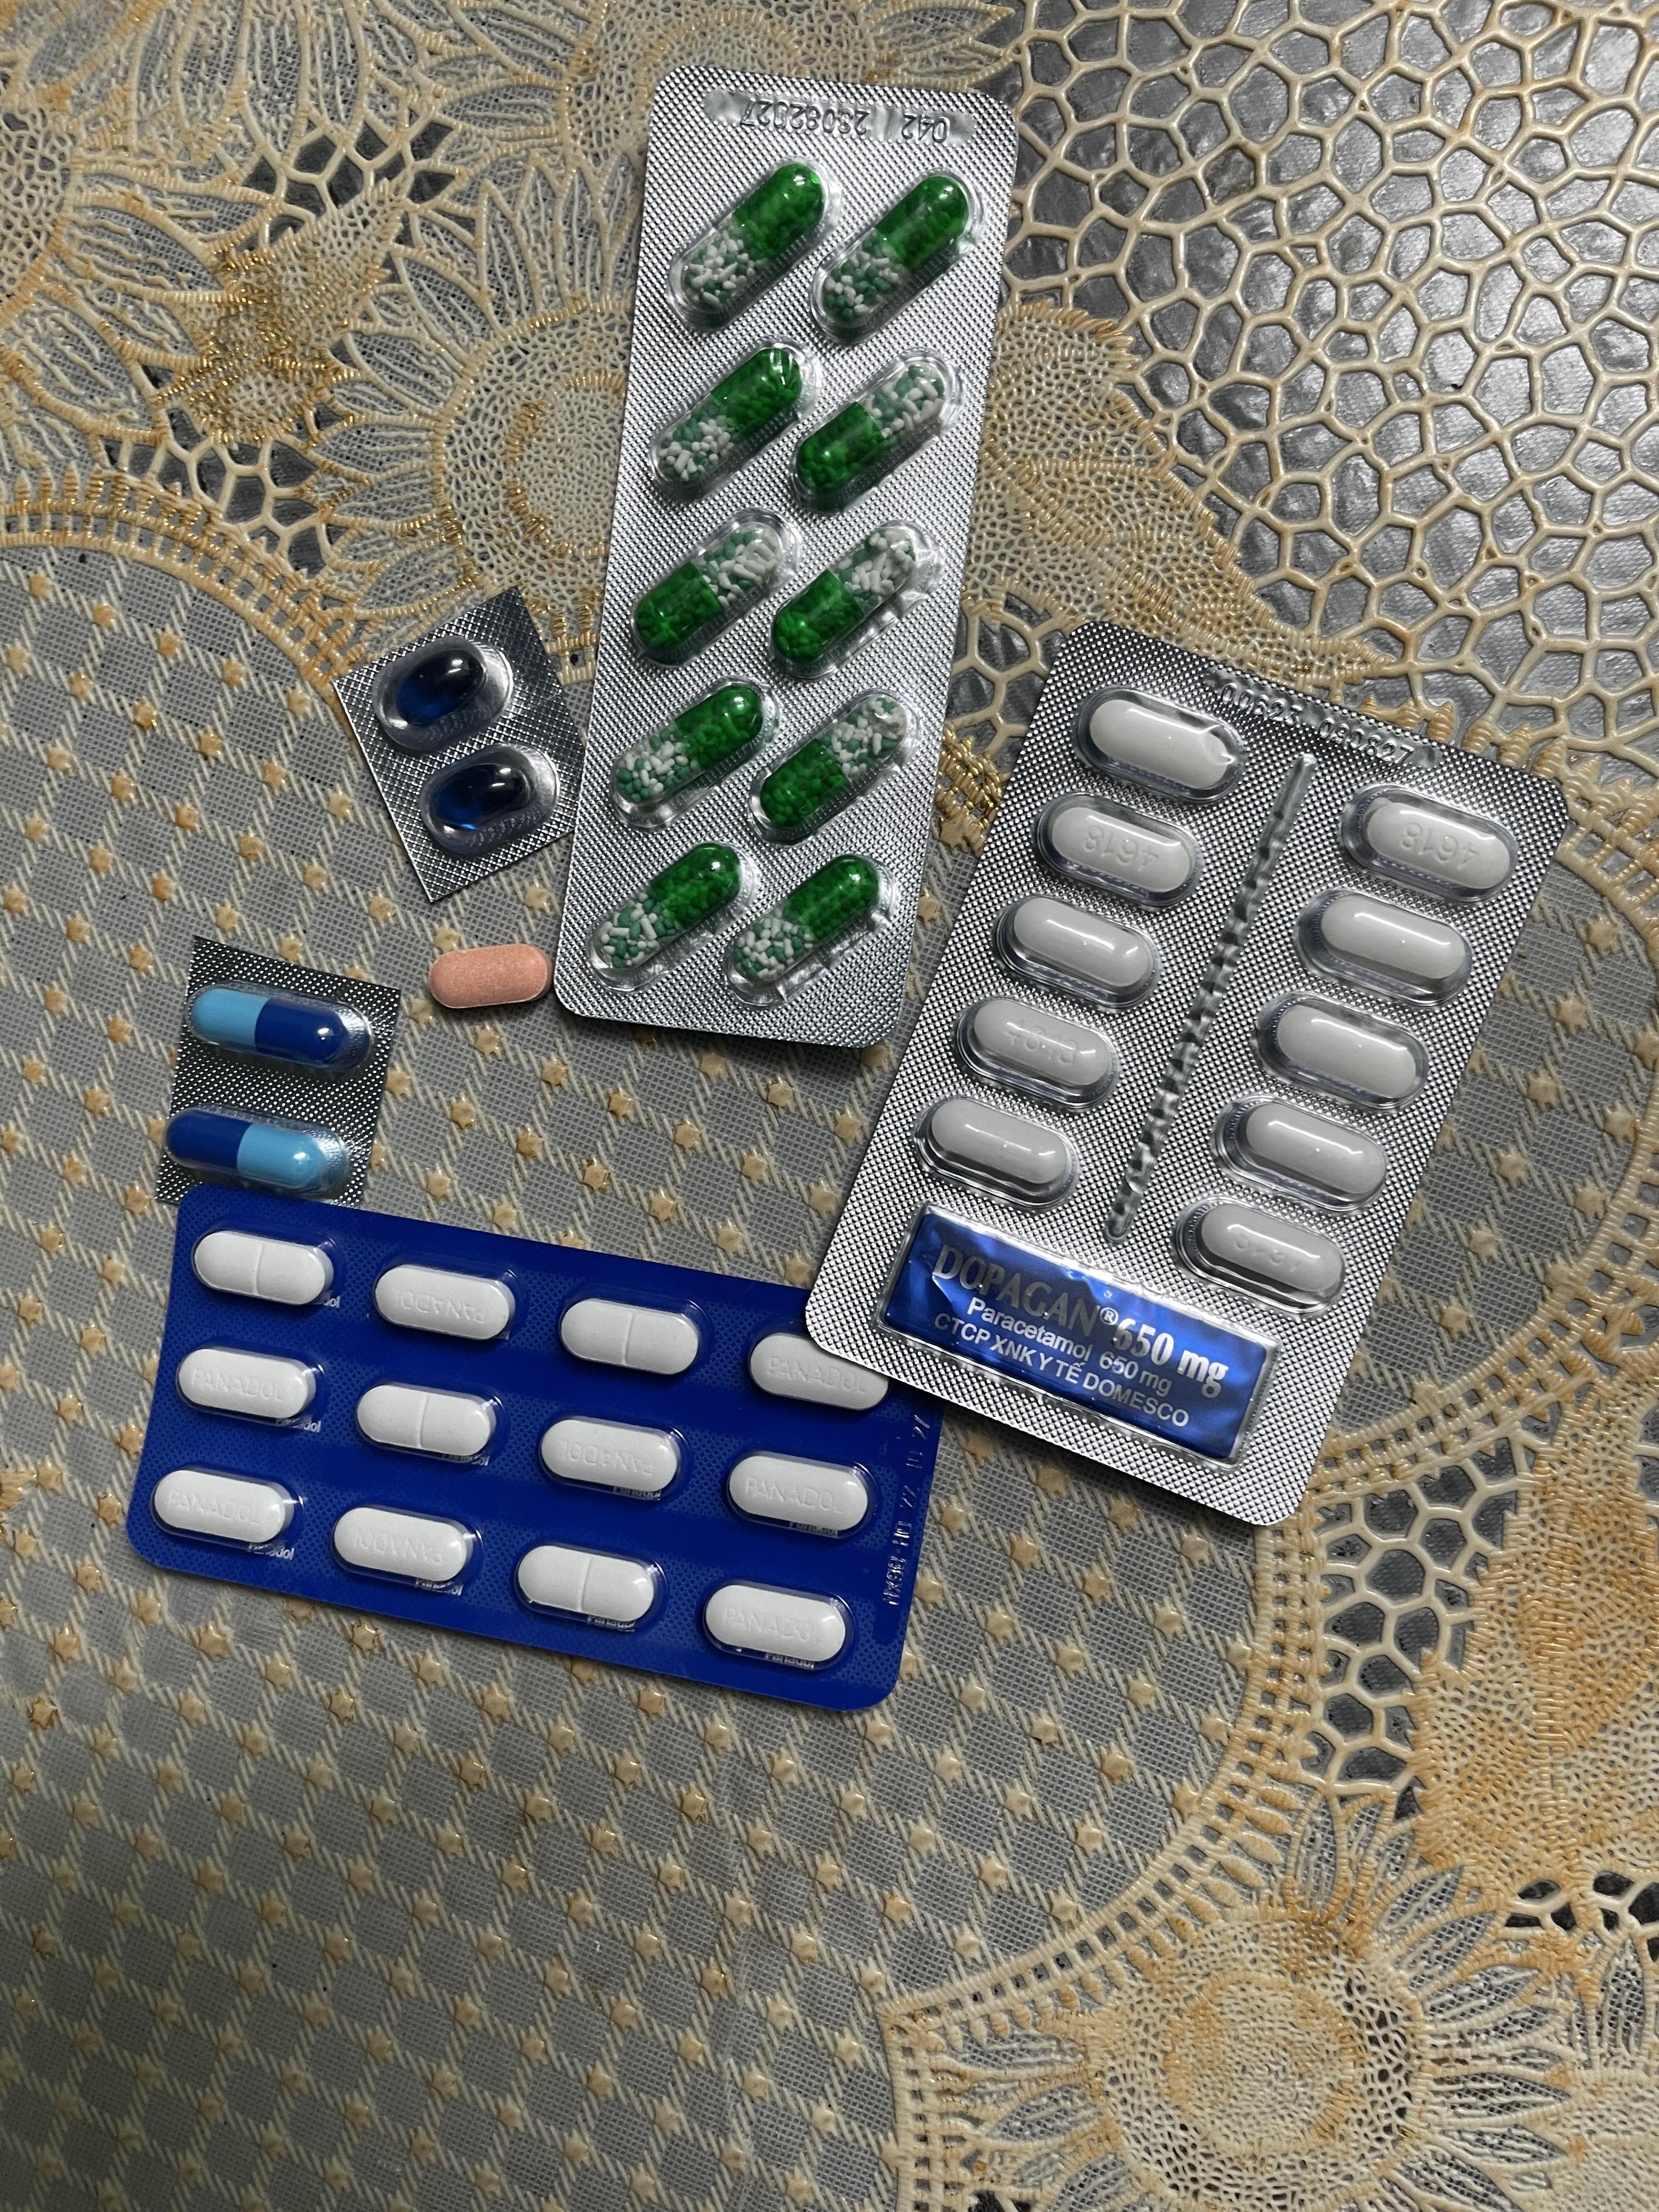Lincomyxin_500mg: (390, 646, 488, 725), (434, 758, 537, 827)
Loratadine_10mg: (427, 944, 554, 1010)
Paracetamol_350mg: (702, 1581, 856, 1670), (727, 1454, 877, 1538), (516, 1543, 659, 1630), (542, 1416, 687, 1500), (153, 1467, 296, 1550), (331, 1505, 474, 1588), (748, 1332, 892, 1414), (176, 1346, 319, 1426), (373, 1263, 516, 1341), (561, 1298, 704, 1376), (357, 1383, 495, 1463), (192, 1228, 333, 1305)
Paracetamol_500mg: (1297, 887, 1478, 1010), (1340, 782, 1520, 906), (1216, 1089, 1396, 1205), (1176, 1191, 1349, 1308), (1075, 686, 1243, 806), (1260, 996, 1429, 1111), (911, 1094, 1075, 1209), (995, 895, 1150, 1008), (1033, 791, 1188, 904), (964, 996, 1108, 1099)
Paracetamol_650mg: (669, 158, 833, 329), (812, 172, 972, 341), (788, 350, 953, 510), (772, 523, 941, 676), (631, 510, 795, 667), (653, 347, 814, 496), (725, 855, 887, 998), (613, 681, 777, 822), (589, 841, 753, 977), (756, 697, 903, 829)
pill: (167, 1108, 356, 1195), (192, 988, 373, 1073)
